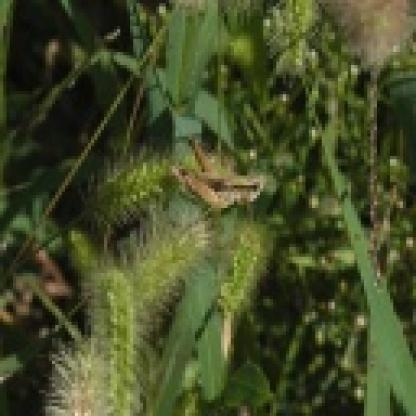grasshopper: (166, 136, 271, 219)
